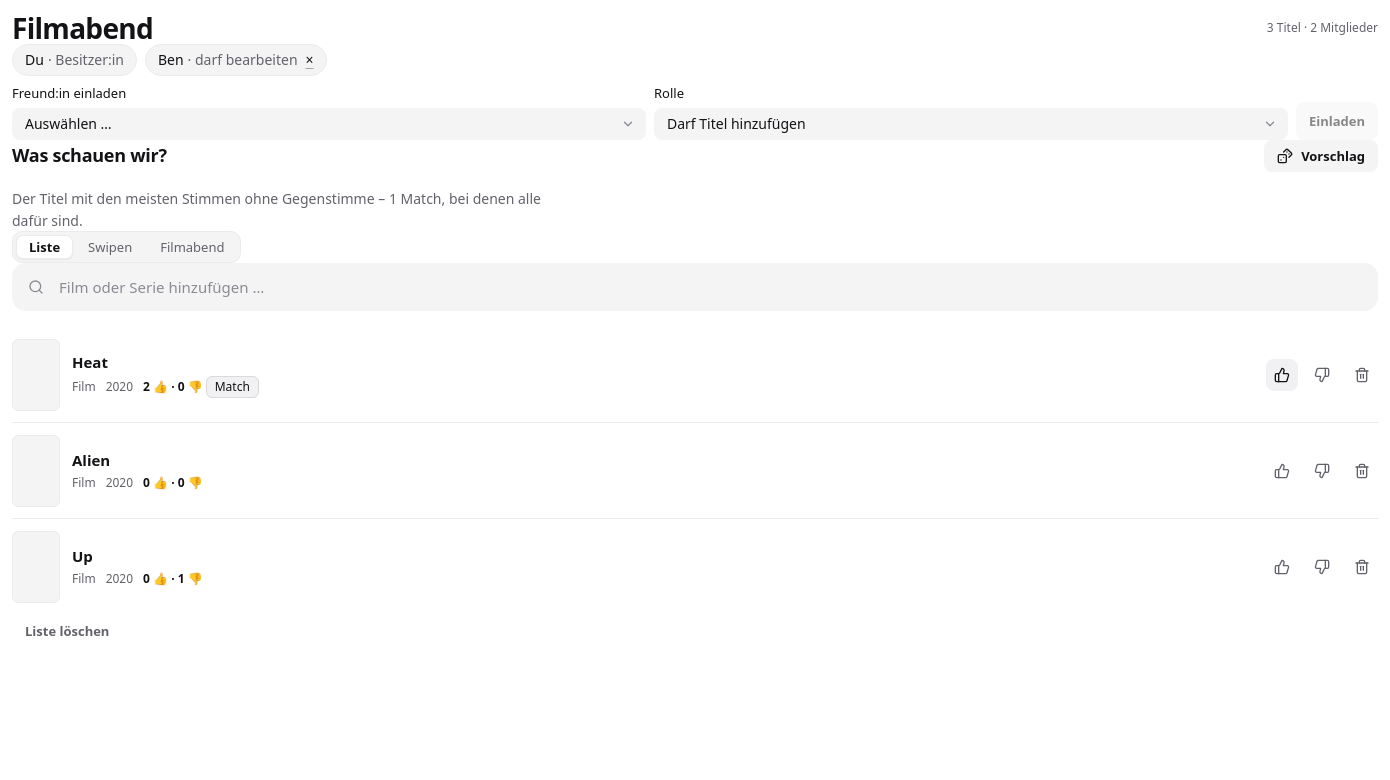
ListDetailPage › ranks by votes, shows matches and picks tonight’s title without a veto
Expected: the links read "Heat", "Alien", "Up", in this order, [72, 352, 108, 372]; [72, 451, 110, 471]; [72, 547, 93, 567]
Expected: the text "Match" is shown, [206, 377, 259, 399]
Click the button "Vorschlag" at [1321, 156], box [1264, 140, 1378, 172]
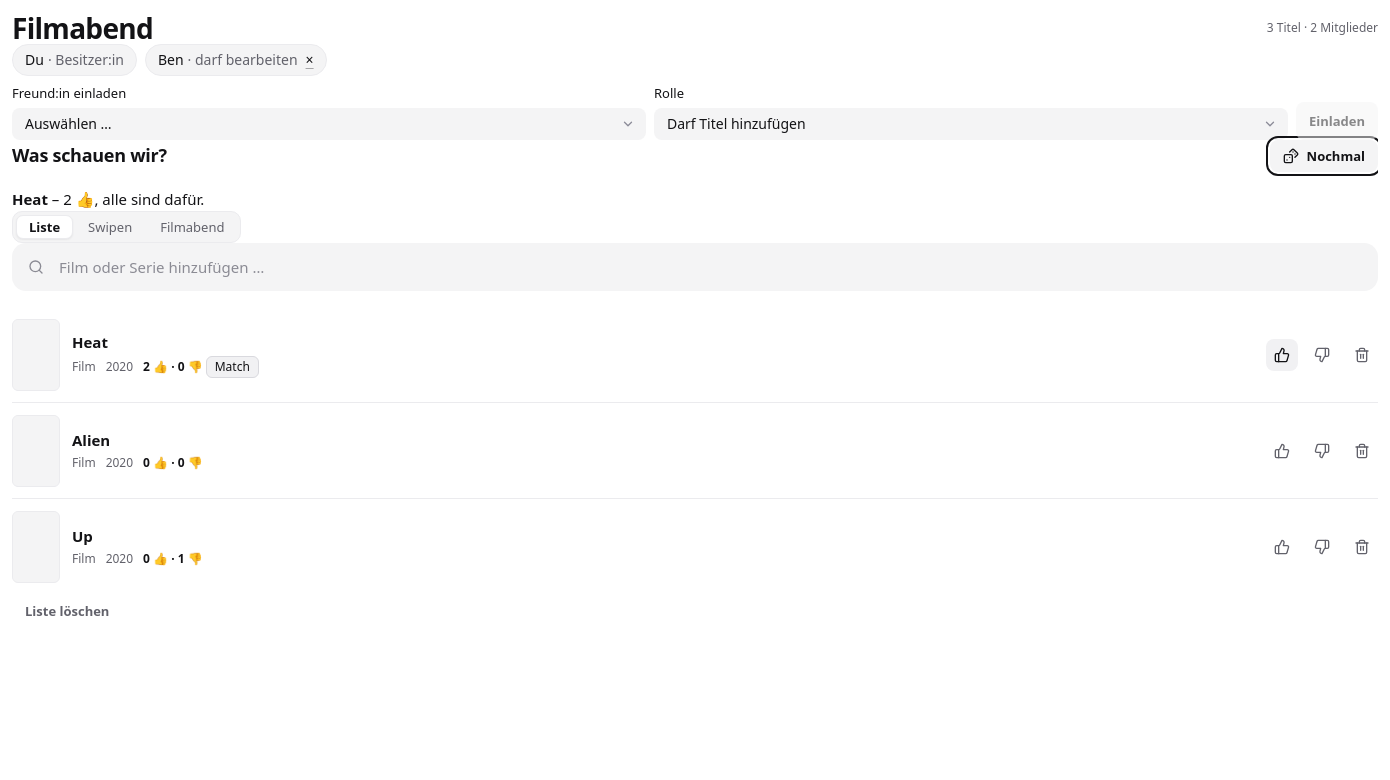
Expected: the link "Heat" in the row of ", alle sind dafür" is shown, [12, 189, 48, 209]
